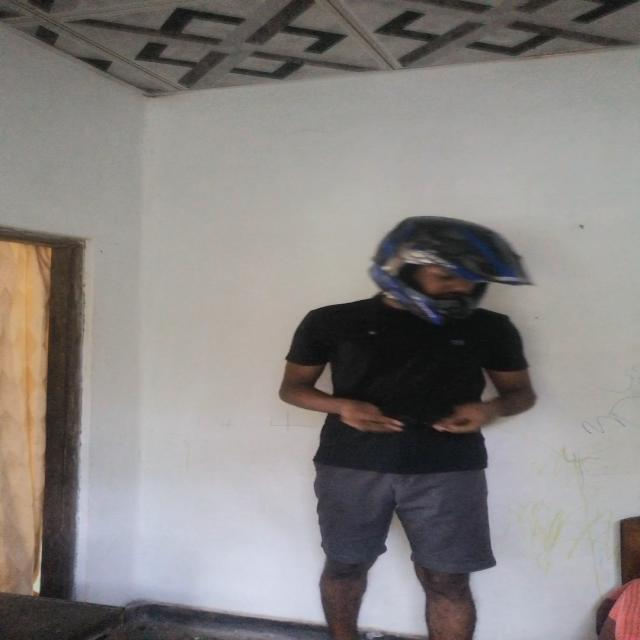Helmet_Wearer: (326, 204, 529, 340)
Person: (274, 225, 547, 640)
